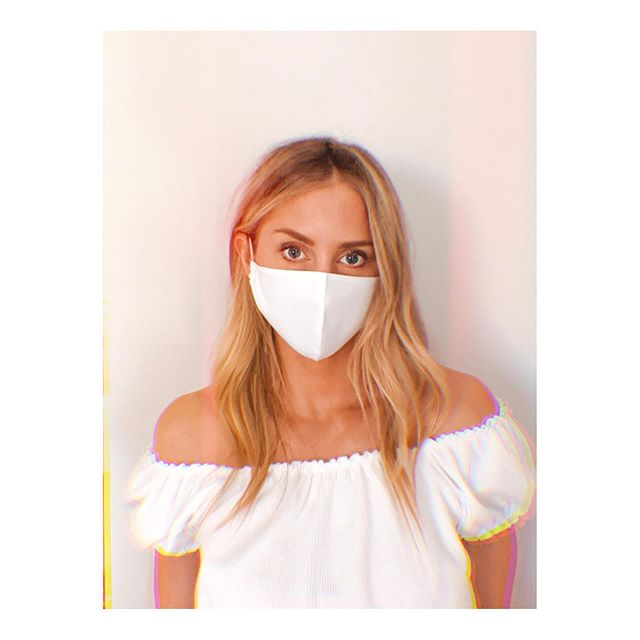homemade: (238, 269, 400, 362)
